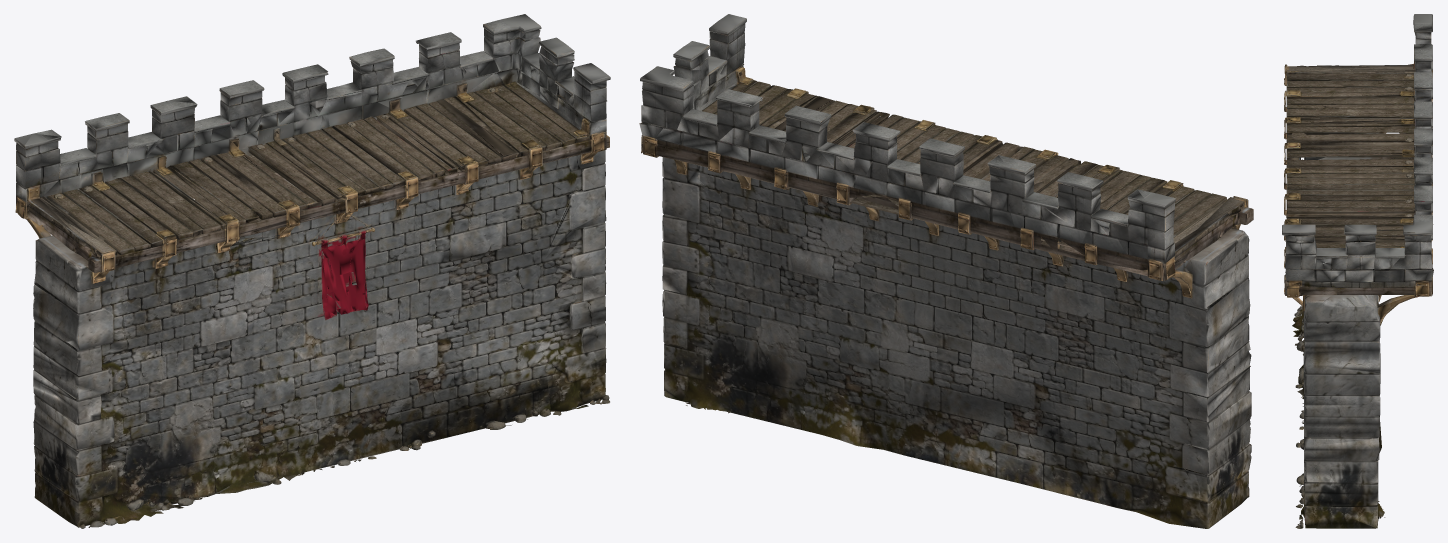
Rendered from cas-wall.fbx.
3 renders of one model, left to right at view 1: azimuth 30°, elevation 25°; view 2: azimuth 150°, elevation 25°; view 3: azimuth 270°, elevation 25°, orthographic. The views are drawn at different scales.
Parts seen in each view (by area): view 1: Mesh_0; view 2: Mesh_0; view 3: Mesh_0.
Part boxes in pixels (x1,y1,x2,y2): Mesh_0: (14,14,610,528); Mesh_0: (639,14,1253,528); Mesh_0: (1282,14,1433,528).
Size of the model in its own units: 95.65 by 57.67 by 27.
Materials: 1 (1 with a texture image).
